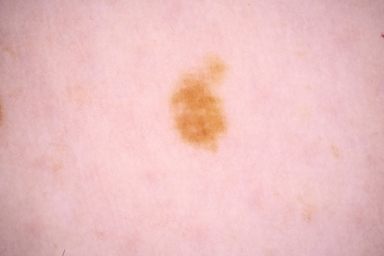nevus: (172, 59, 230, 154)
